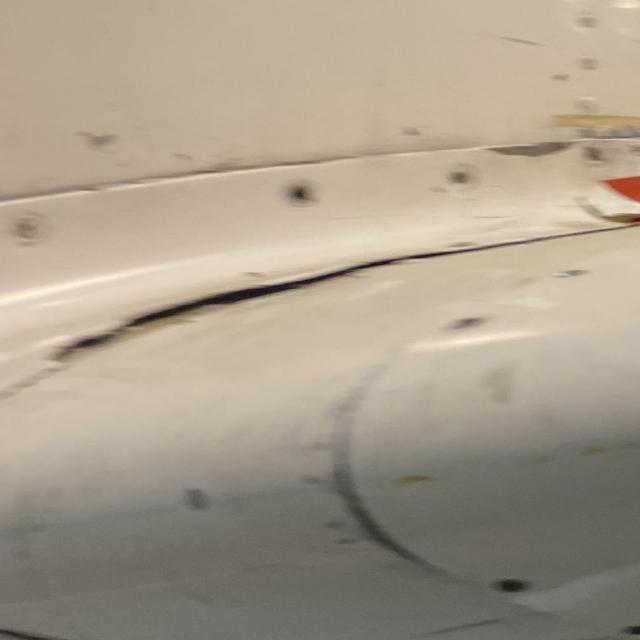Crack: (48, 241, 548, 404)
Missing-head: (491, 579, 528, 595), (620, 625, 640, 638)
Paint-off: (179, 490, 208, 512)
